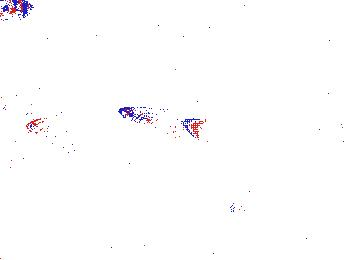X-ray fish: (34, 112, 79, 160)
red belly glassfish: (24, 110, 91, 138), (229, 189, 253, 215)
redtail glassfish: (118, 104, 206, 144), (1, 77, 72, 112)
